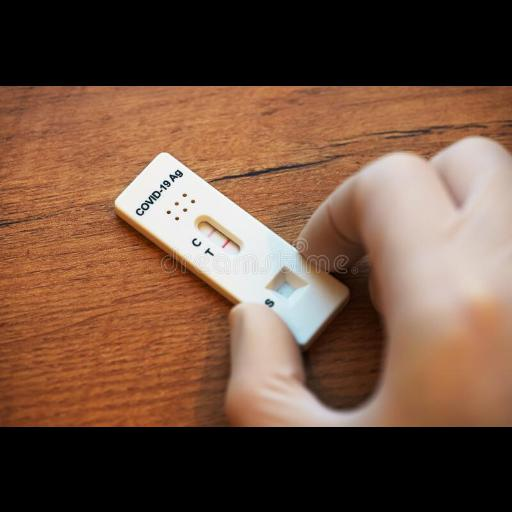Pos: (112, 151, 352, 346)
